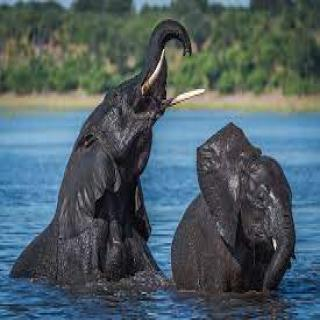Elephant: (13, 15, 206, 320), (168, 119, 299, 302)
